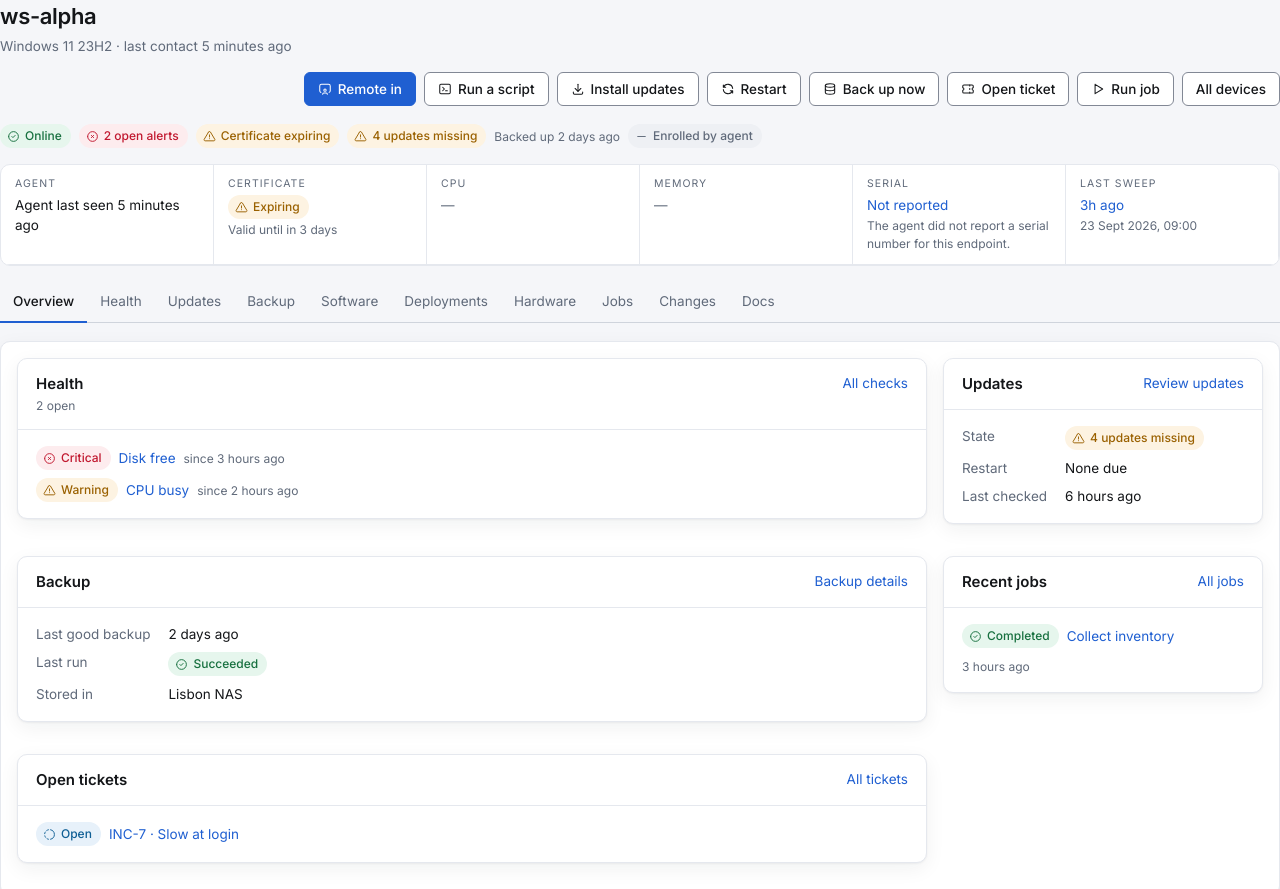
it: the actions › runs a script from the library on this device, after the SYSTEM confirmation
Click the button "Run a script": point(486, 89) [424, 72, 549, 106]
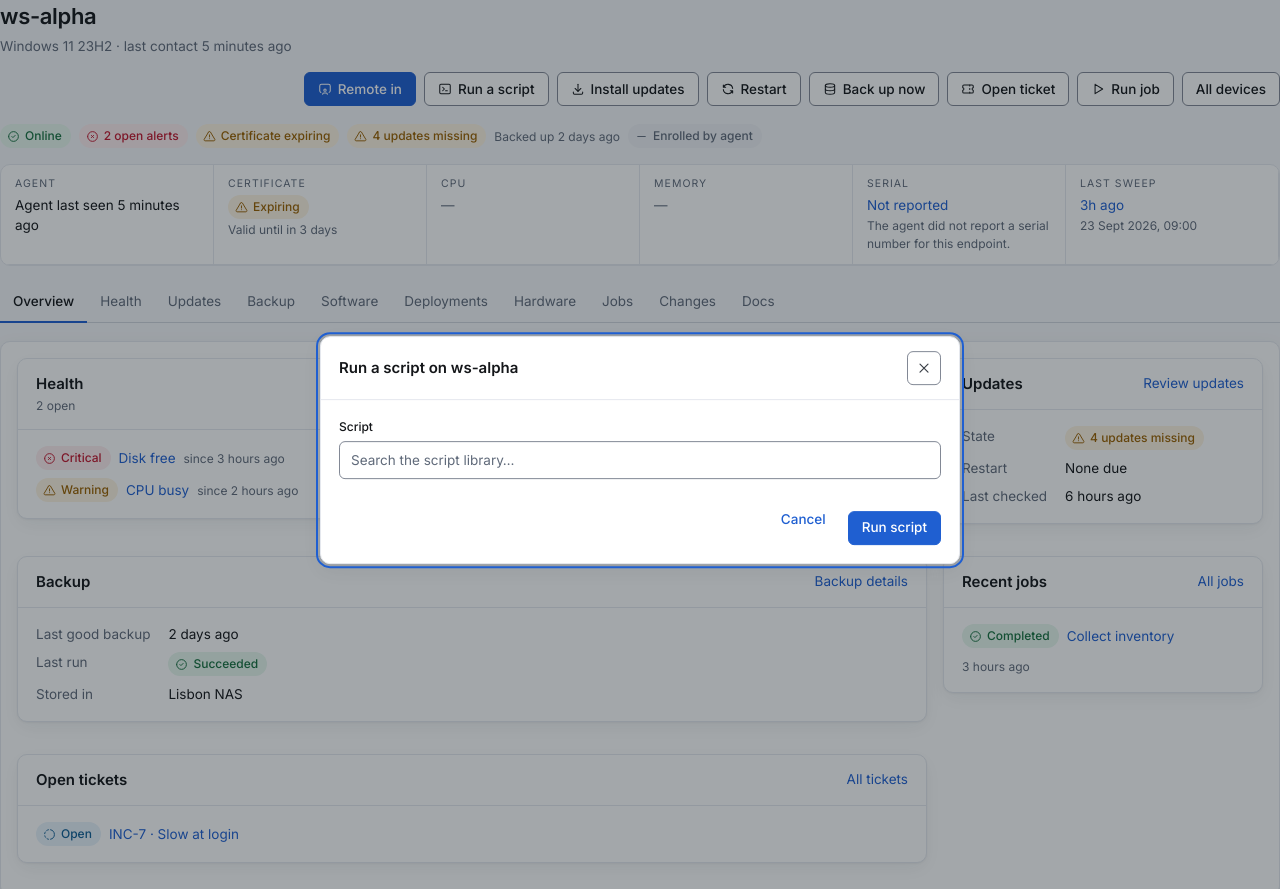
Click the dropdown labelled "Script": point(640, 460) [339, 441, 941, 479]
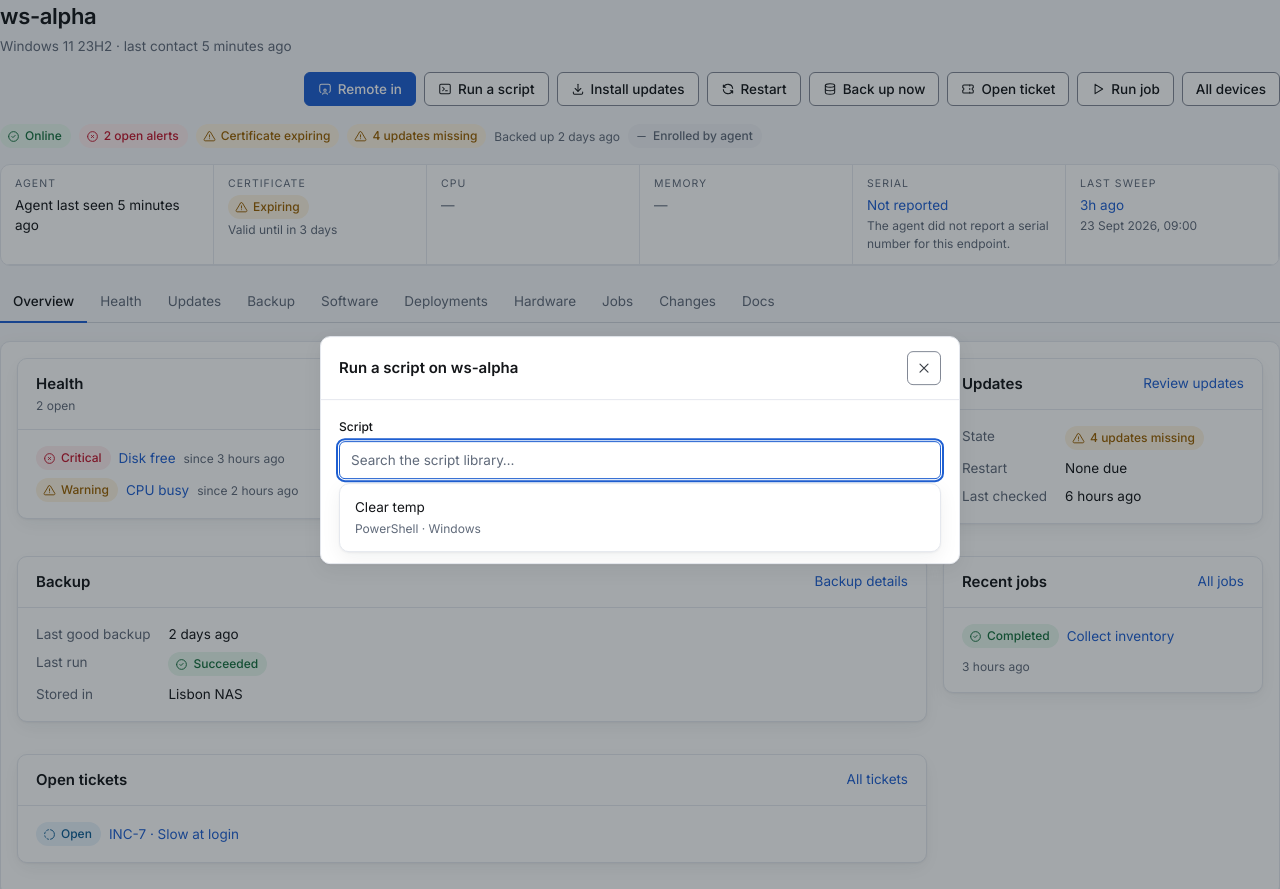
Click the option "Clear temp PowerShell · Windows": point(390, 507) [345, 489, 935, 546]
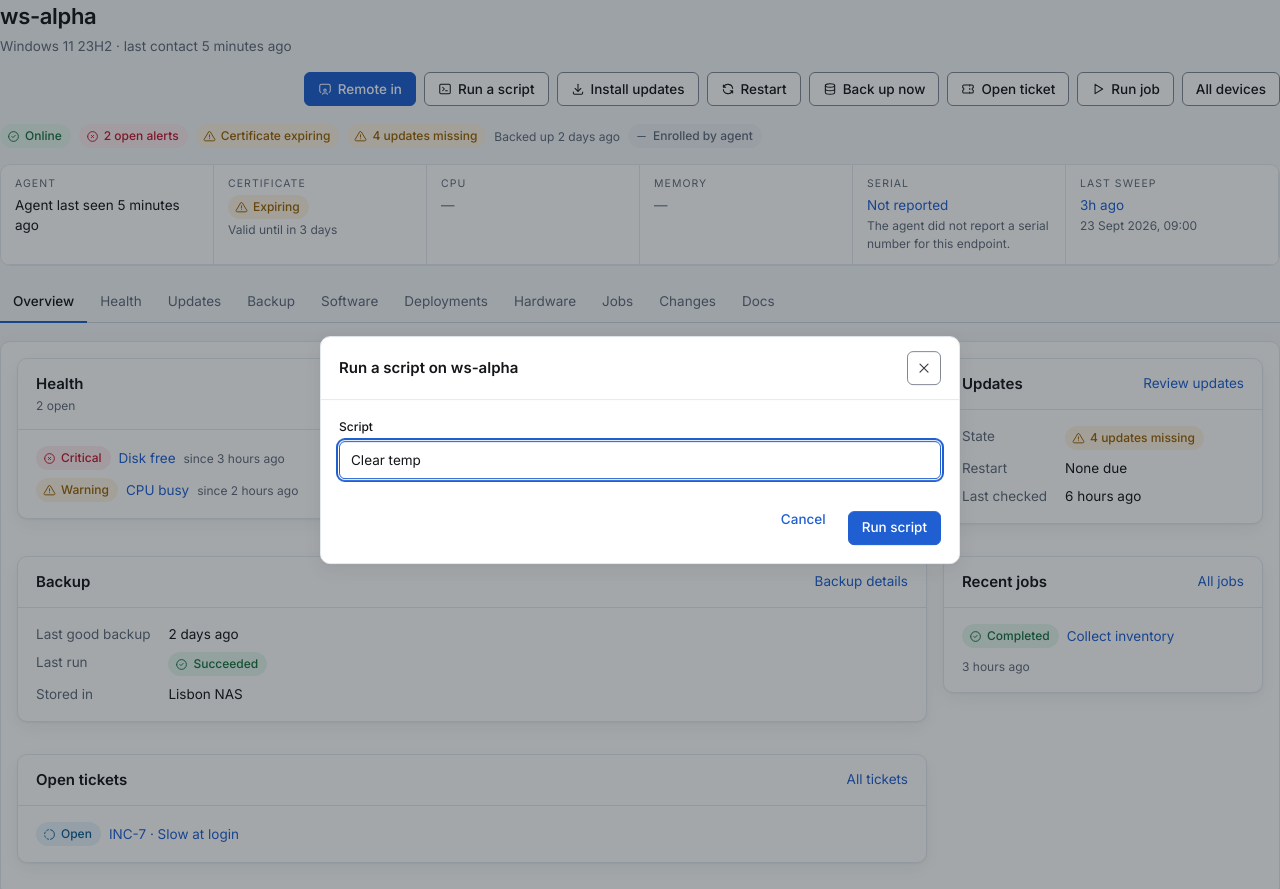
Click the button "Run script": point(894, 528) [848, 511, 941, 545]
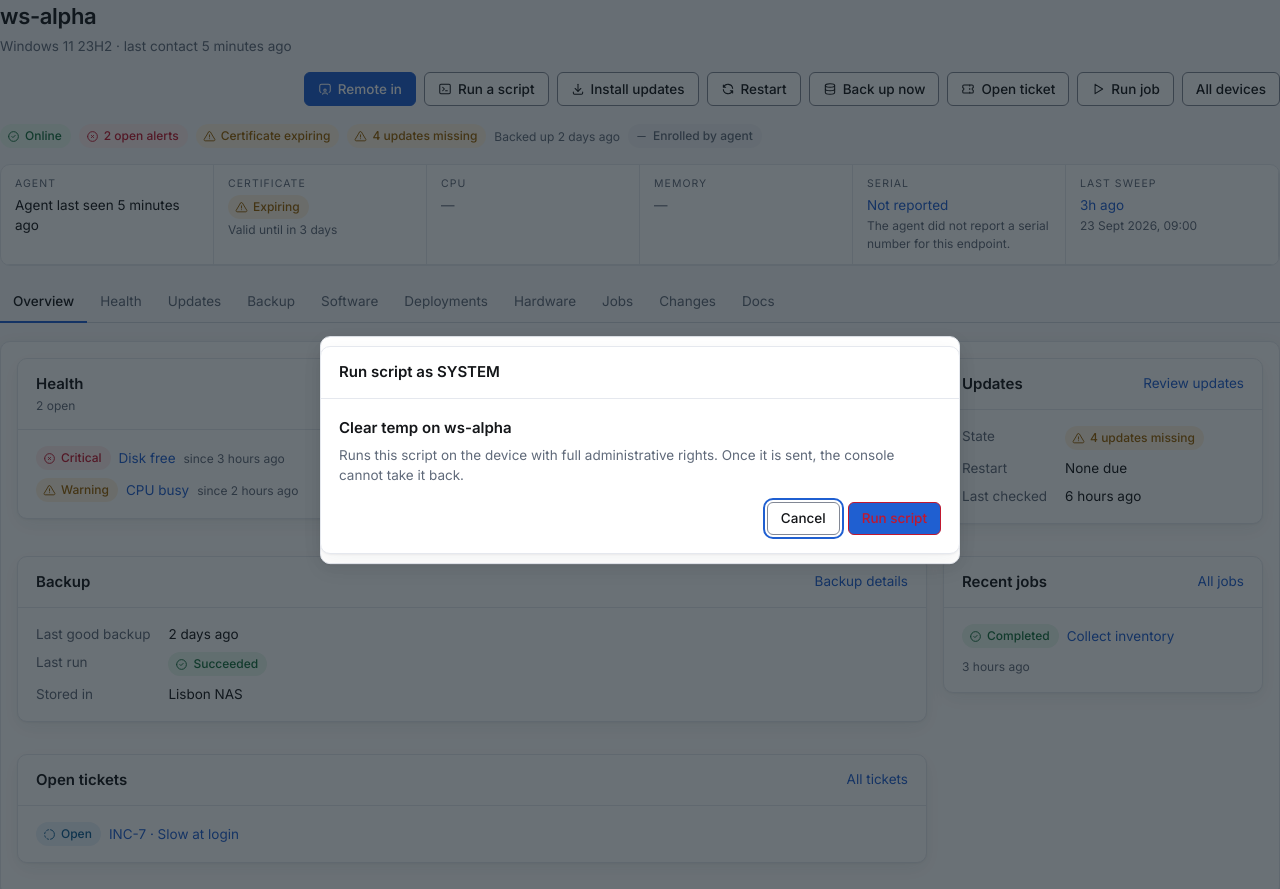
Click the button "Run script": point(894, 518) [848, 502, 941, 535]
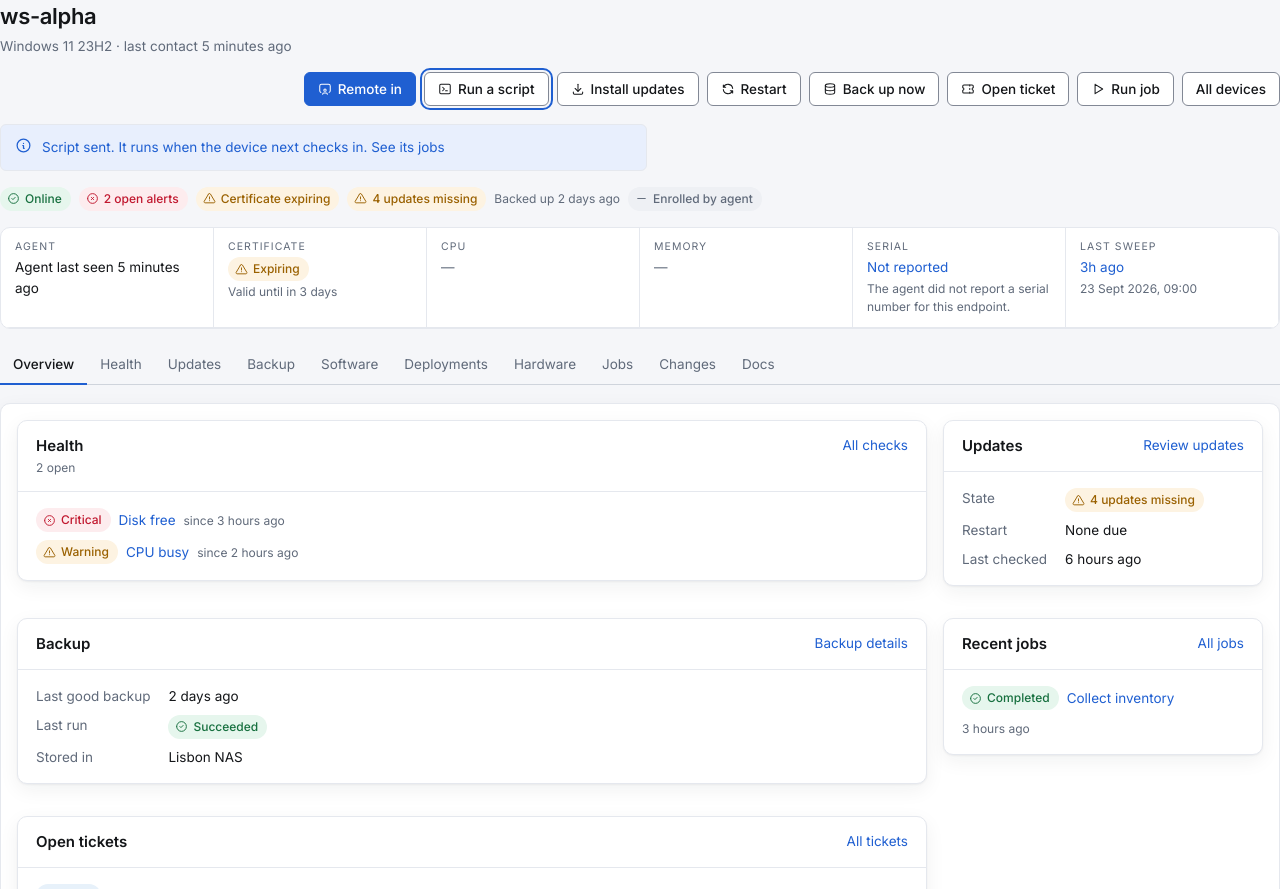
Expected: the message shows "Script sent", [42, 139, 367, 155]
